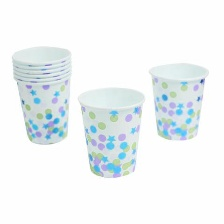paper_cup: (74, 81, 148, 181), (6, 41, 75, 148), (144, 57, 212, 143)
